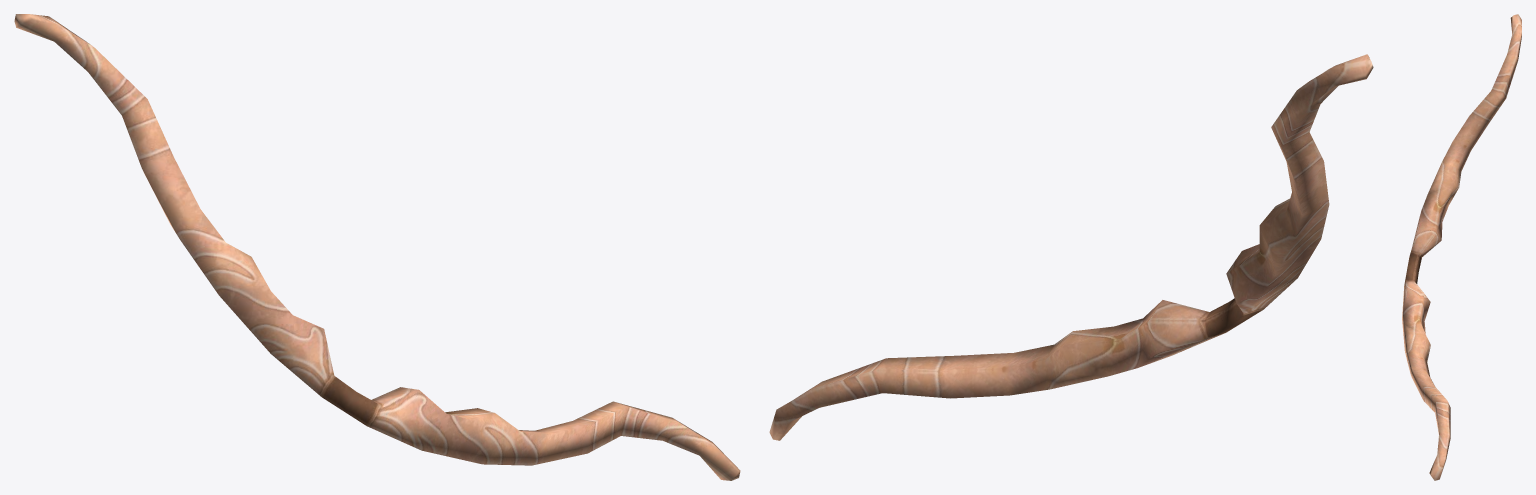
File: weapon-ironweapons.glb
3 renders of one model, left to right at view 1: azimuth 30°, elevation 25°; view 2: azimuth 150°, elevation 25°; view 3: azimuth 270°, elevation 25°, orthographic. The views are drawn at different scales.
Size of the model in its own units: 1.26 by 1.06 by 0.3814.
Materials: 1 (1 with a texture image).
